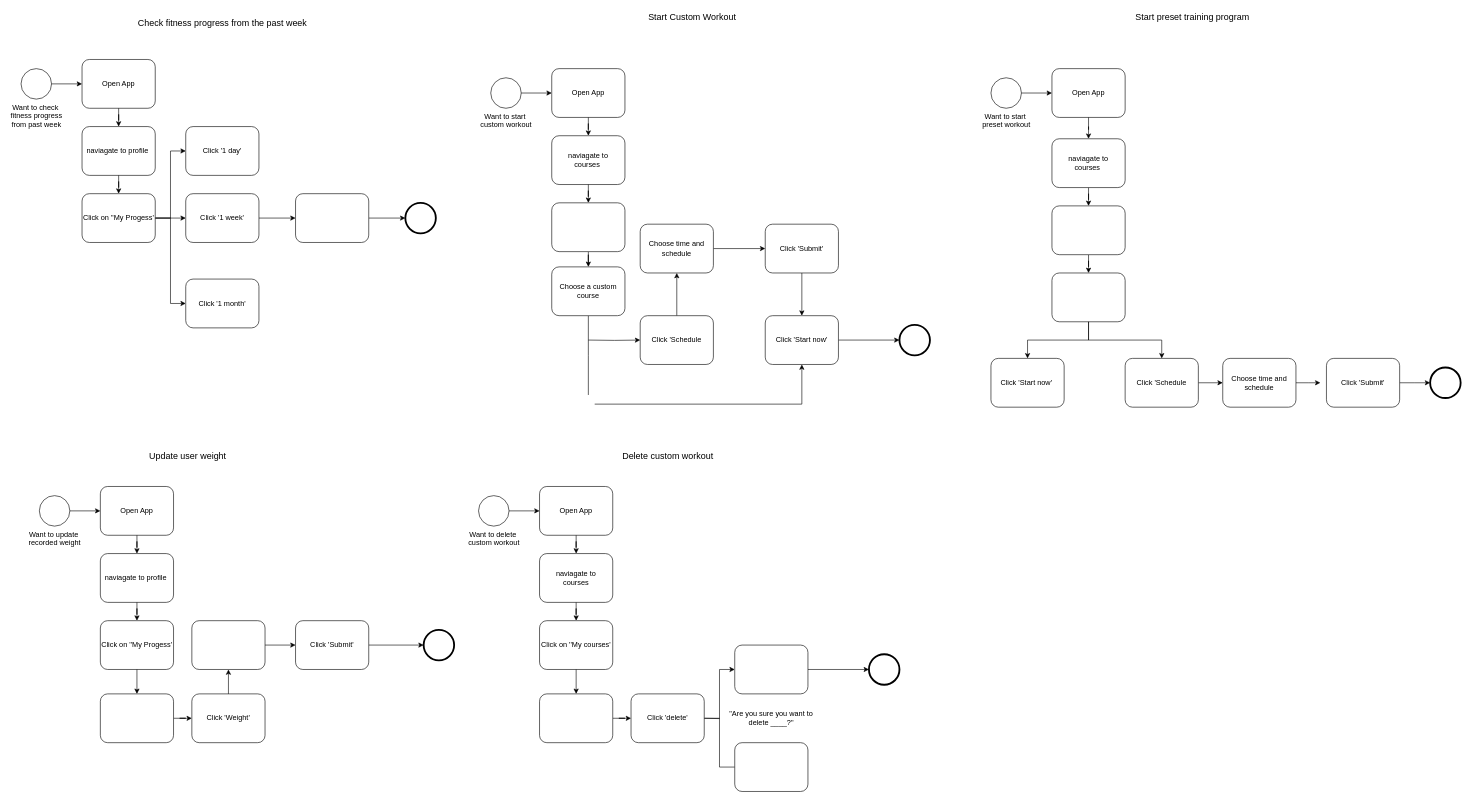
Some shapes in this 1471 by 802 pixel diagram are drawn without their labels. The centre of each missing label's shape, as x and y in pixels:
"Choose a preset course" belongs at [1088,297].
"Click 'my courses'" belongs at [588,227].
"Click 'update'" belongs at [137,718].
"Click and hold on custom workout" belongs at [576,718].
"Click my official courses" belongs at [1088,230].
"Input new weight" belongs at [228,644].
"No" belongs at [771,766].
"Scroll though progress" belongs at [332,217].
"Yes" belongs at [771,669].
